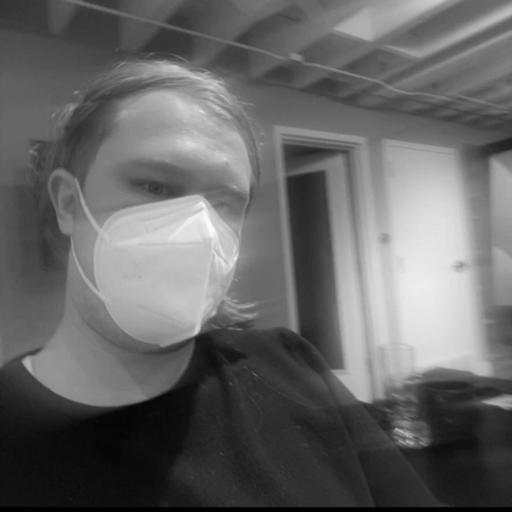mask: (6, 39, 266, 404)
